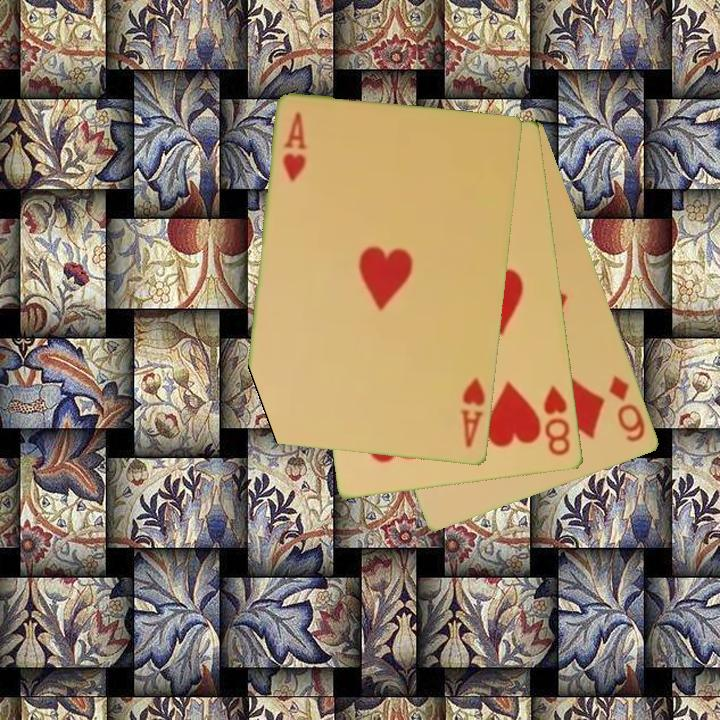6d: (605, 372, 649, 446)
8h: (540, 383, 574, 459)
Ah: (457, 374, 488, 451), (279, 108, 310, 184)
